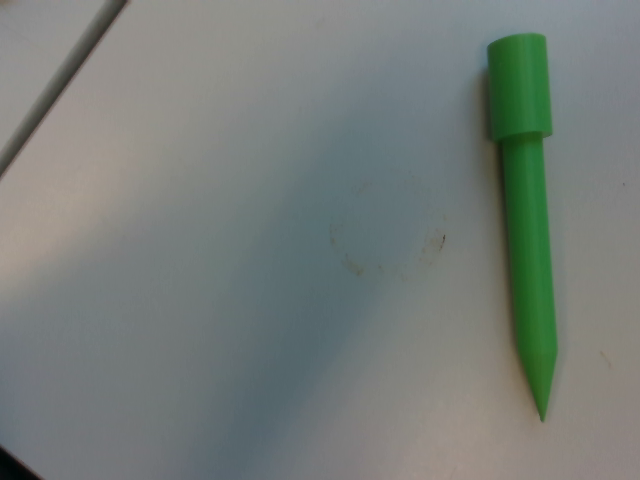Probe: (479, 27, 563, 430)
